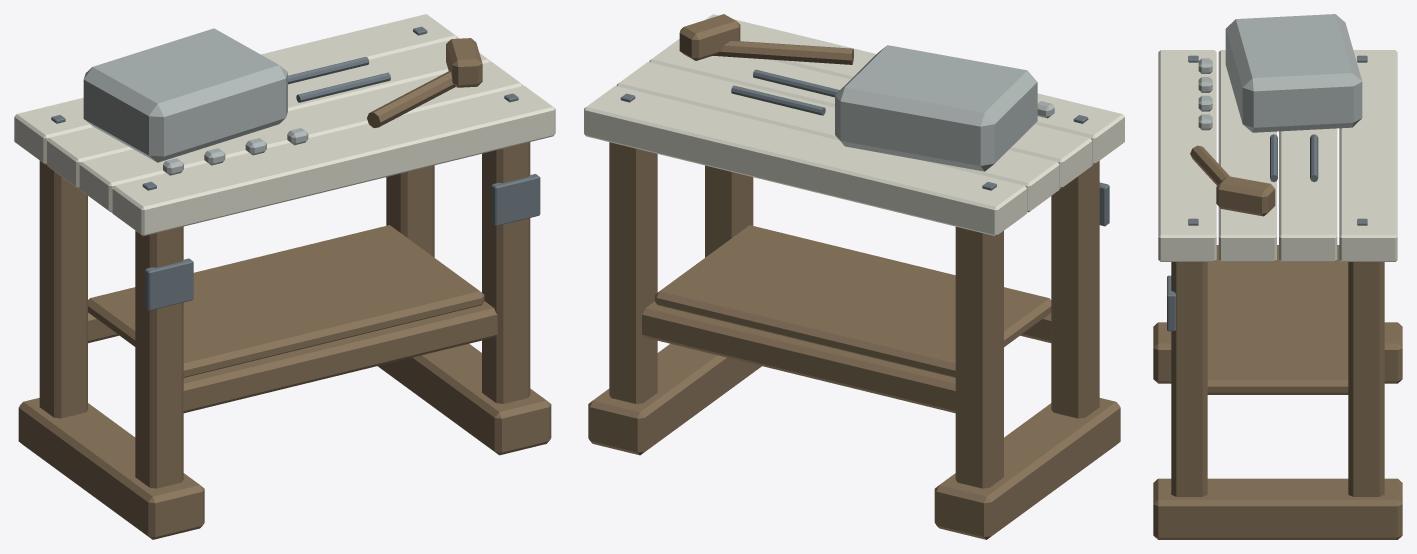
Rendered from shipstonecutter.glb.
3 renders of one model, left to right at view 1: azimuth 30°, elevation 25°; view 2: azimuth 150°, elevation 25°; view 3: azimuth 270°, elevation 25°, orthographic. The views are drawn at different scales.
Visible parts, largest first — view 1: Lower shelf, Worktop plank, Working stone, Trestle foot, Trestle leg.001, Cross member, Trestle leg, Trestle leg.002, Worktop plank.001, Trestle foot.001, Worktop plank.003, Worktop plank.002 (+7 smaller); view 2: Lower shelf, Worktop plank.003, Working stone, Trestle leg.001, Trestle leg.003, Trestle foot, Trestle leg, Cross member.001, Trestle foot.001, Worktop plank.002, Worktop plank.001, Worktop plank (+5 smaller); view 3: Lower shelf, Working stone, Trestle foot.001, Worktop plank, Worktop plank.003, Trestle leg.003, Trestle leg.002, Worktop plank.002, Worktop plank.001, Trestle foot, Mallet head, Mallet handle (+3 smaller).
Boxes of the visible parts, x1,y1,x2,y2 form: Lower shelf: (88,225,484,377); Worktop plank: (112,85,555,236); Working stone: (83,28,287,162); Trestle foot: (18,398,204,539); Trestle leg.001: (39,161,87,418); Cross member: (183,301,497,413); Trestle leg: (135,226,183,488); Trestle leg.002: (482,142,530,403); Worktop plank.001: (79,61,522,212); Trestle foot.001: (377,344,551,455); Worktop plank.003: (14,14,457,164); Worktop plank.002: (47,38,490,188); Lower shelf: (655,225,1051,377); Worktop plank.003: (584,86,1026,236); Working stone: (835,45,1037,171); Trestle leg.001: (955,226,1003,488); Trestle leg.003: (609,142,657,403); Trestle foot: (934,398,1120,539); Trestle leg: (1051,161,1099,418); Cross member.001: (642,301,955,413); Trestle foot.001: (588,344,761,455); Worktop plank.002: (616,62,1059,212); Worktop plank.001: (649,39,1092,188); Worktop plank: (705,14,1124,164); Lower shelf: (1207,245,1348,394); Working stone: (1225,14,1362,132); Trestle foot.001: (1153,478,1402,539); Worktop plank: (1158,50,1216,261); Worktop plank.003: (1339,50,1397,261); Trestle leg.003: (1348,262,1384,496); Trestle leg.002: (1171,262,1207,496); Worktop plank.002: (1279,128,1337,261); Worktop plank.001: (1218,50,1276,261); Trestle foot: (1153,322,1402,383); Mallet head: (1216,176,1275,216); Mallet handle: (1190,145,1229,185).
Size of the model in its own units: 1.1 by 1 by 0.62.
